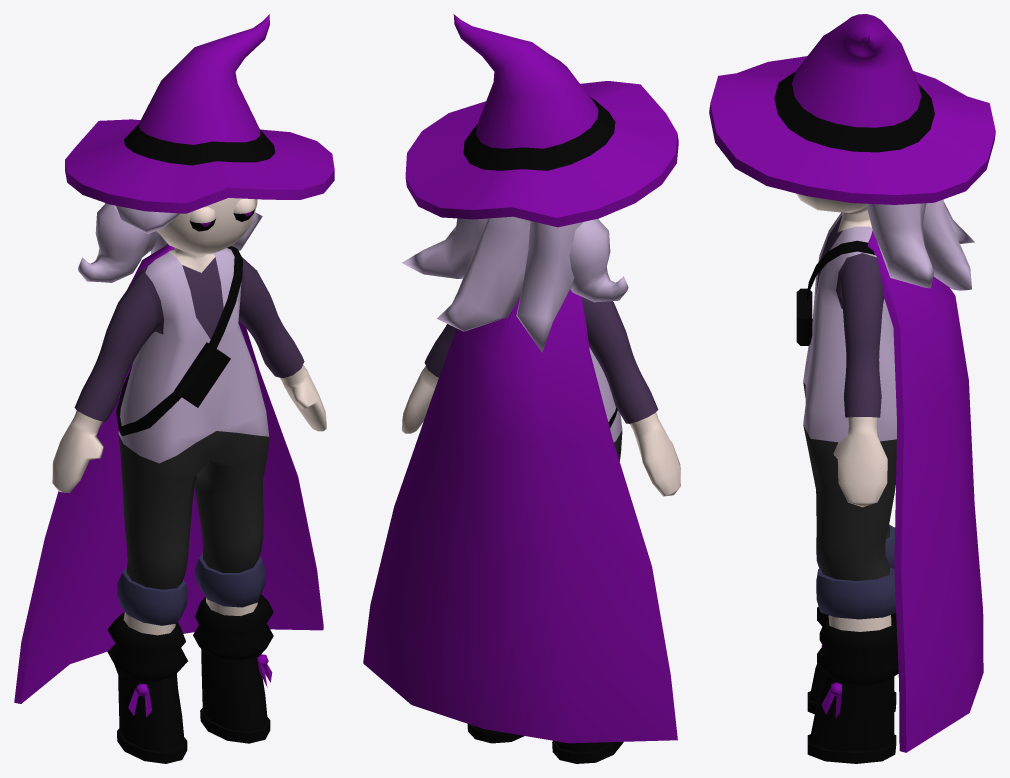
Rendered from ShadowWizard(noUV).fbx.
3 views of the same model, side by side, from view 1: azimuth 30°, elevation 25°; view 2: azimuth 150°, elevation 25°; view 3: azimuth 270°, elevation 25° (orthographic). The views are drawn at different scales.
Visible parts, largest first — view 1: ShadowWizard; view 2: ShadowWizard; view 3: ShadowWizard.
Part boxes in pixels (box(x1,y1,x2,y2)): ShadowWizard: box(14, 14, 334, 763); ShadowWizard: box(363, 14, 680, 763); ShadowWizard: box(709, 14, 995, 763).
Bounding box in the file's own units: 11.23 × 24.15 × 8.51.
